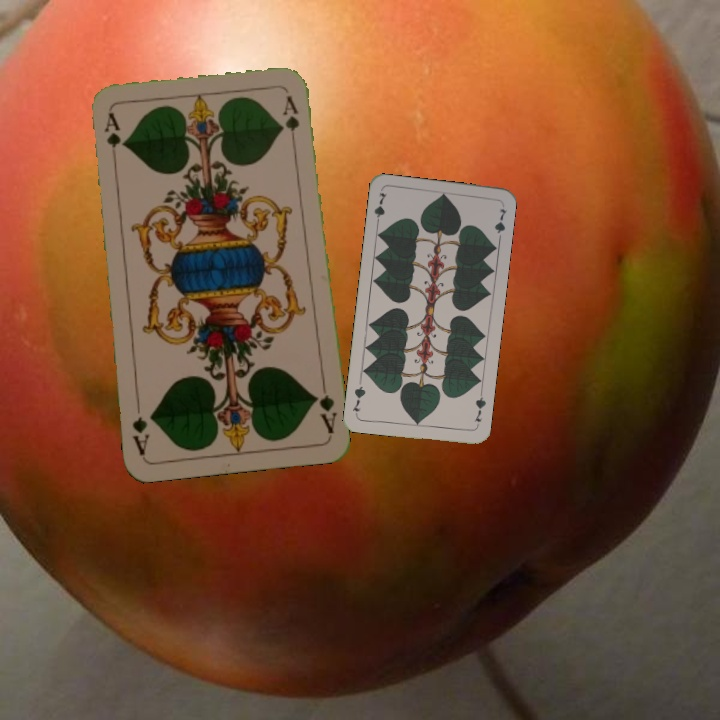G7: (370, 189, 389, 229), (471, 389, 489, 430)
GA: (310, 378, 339, 437), (100, 109, 123, 168)
